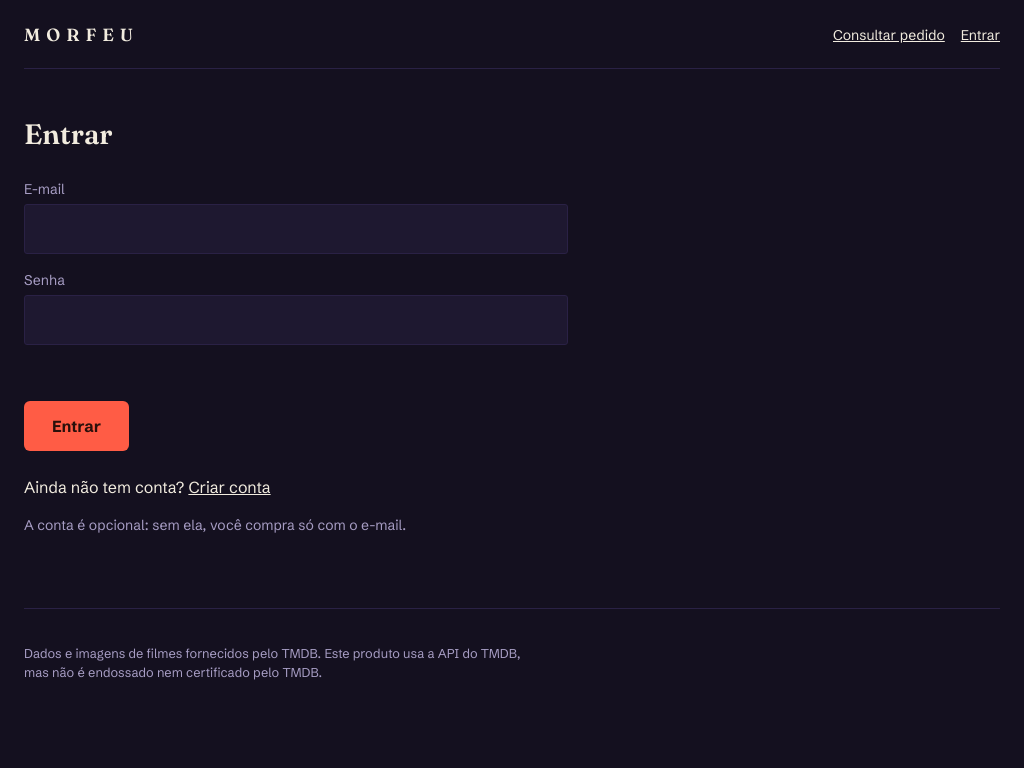
it: login e cadastro › credenciais inválidas: mensagem única, sem dizer qual campo errou
Type "ana@exemplo.com" into the field labelled "E-mail" at (296, 229), box [24,204,568,254]
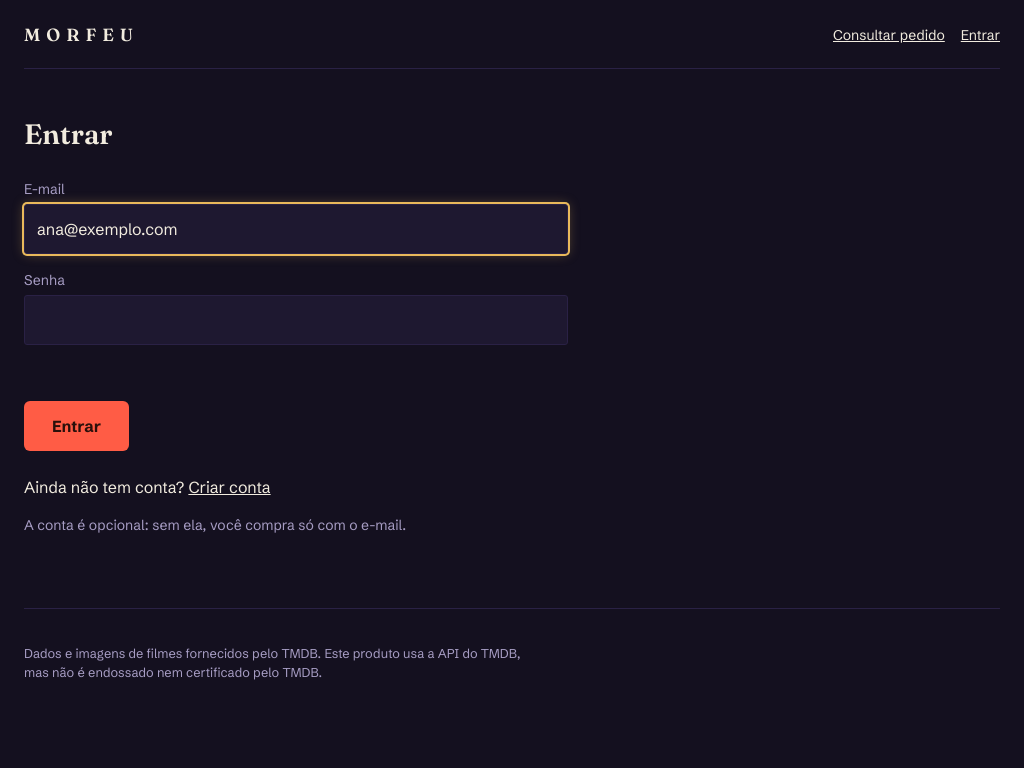
Type "errada123" into the password field labelled "Senha" at (296, 320), box [24,295,568,345]
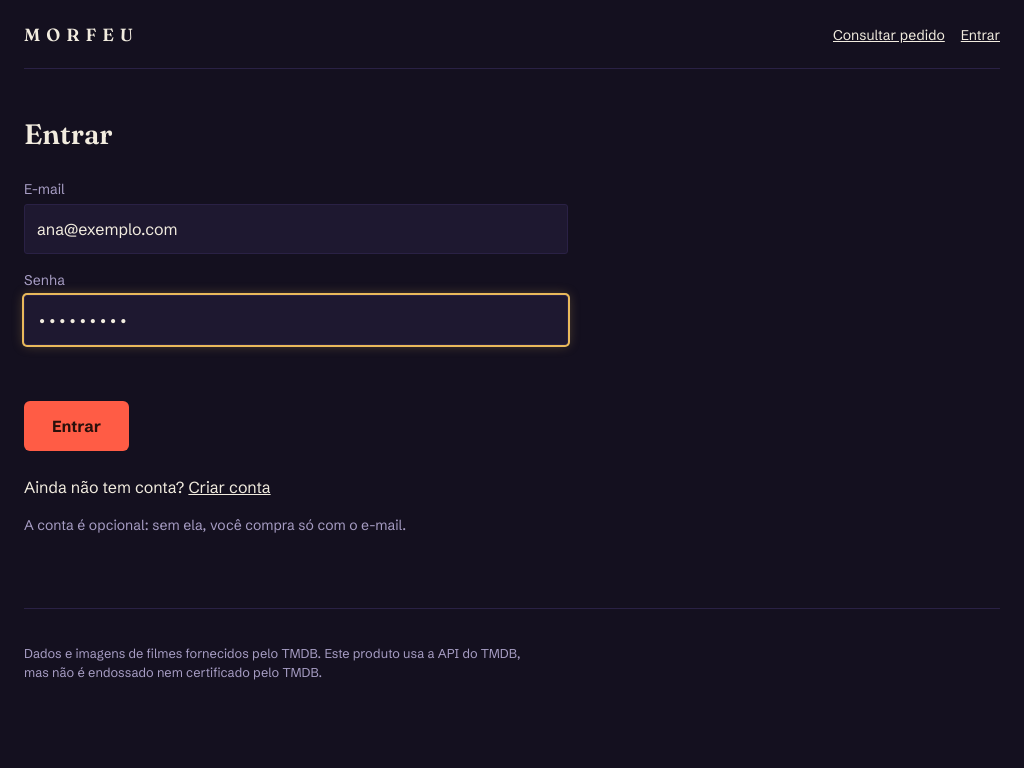
Click the button "Entrar" at (77, 426), box [24,401,129,451]
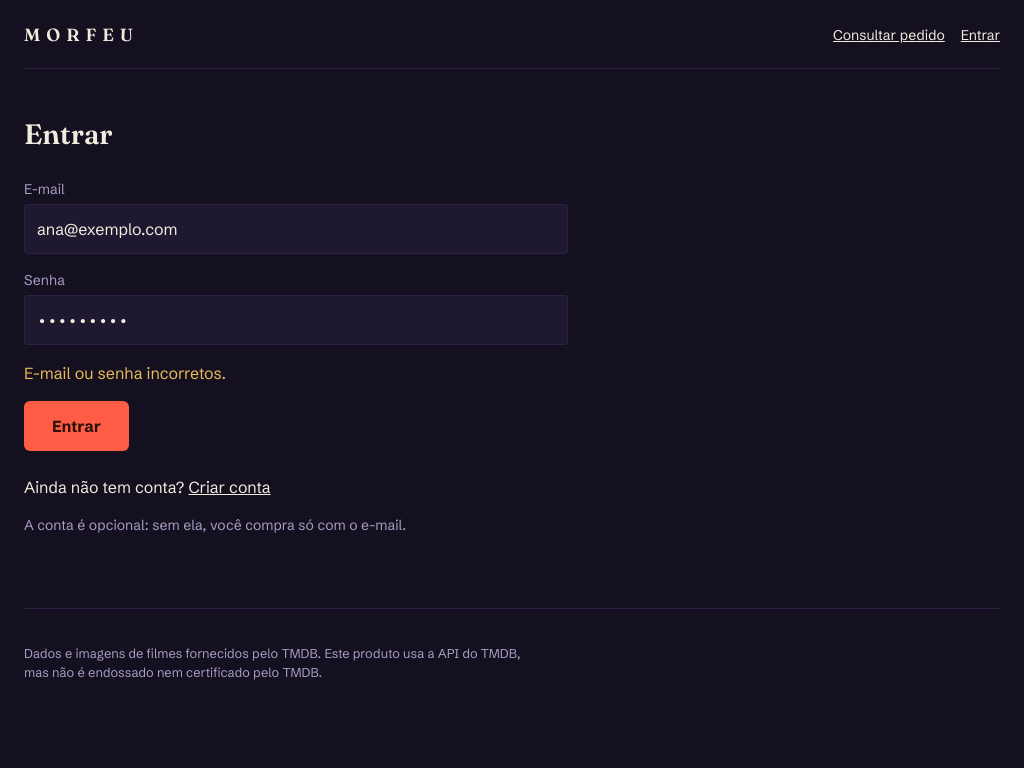
Now the message reads "E-mail ou senha incorretos.", box [24,363,226,383]
